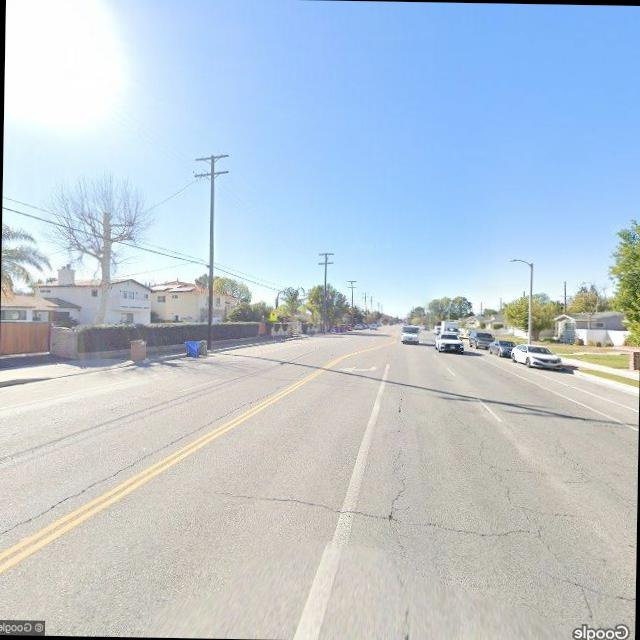crack: (8, 356, 316, 535), (442, 401, 604, 597), (209, 484, 550, 537), (381, 381, 416, 558)
